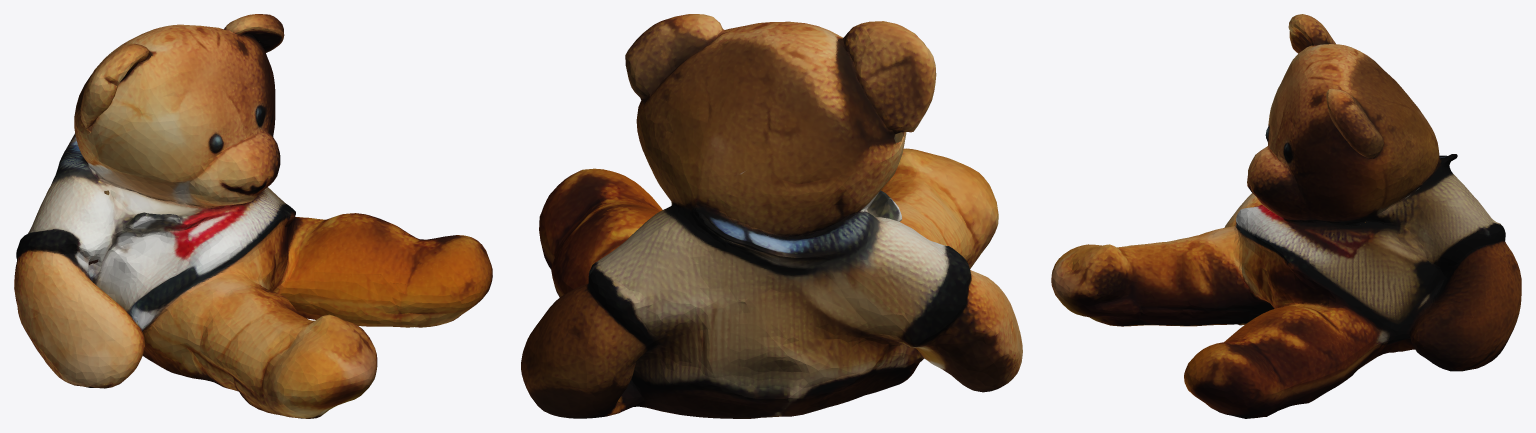
3 views of the same model, side by side, from view 1: azimuth 30°, elevation 25°; view 2: azimuth 150°, elevation 25°; view 3: azimuth 270°, elevation 25° (orthographic). The views are drawn at different scales.
Parts seen in each view (by area): view 1: world; view 2: world; view 3: world.
Part boxes in pixels (x1,y1,x2,y2): world: (14, 14, 492, 418); world: (521, 14, 1022, 418); world: (1051, 14, 1521, 418).
Bounding box in the file's own units: 0.9285 × 0.6295 × 0.9962.
1 material, 1 textured.
